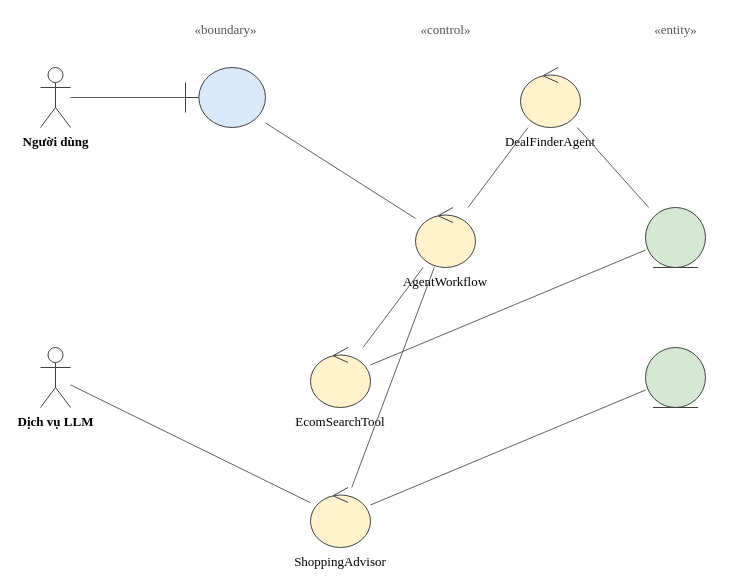
Some shapes in this 752 by 587 pixel diagram are drawn without their labels. The shapes that lost their labels are listed below. From the top down, each one's box as (x1, y1, x2, y2) in pixels, then its label:
(184, 66, 266, 128): ChatView
(644, 206, 706, 268): Product
(644, 346, 706, 408): ChatMessage
